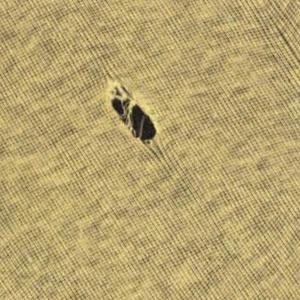hole: (109, 80, 163, 146)
